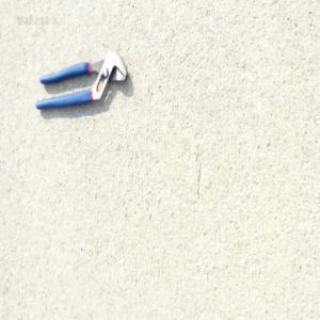Pliertrack_idkeyframe: (34, 46, 129, 108)
